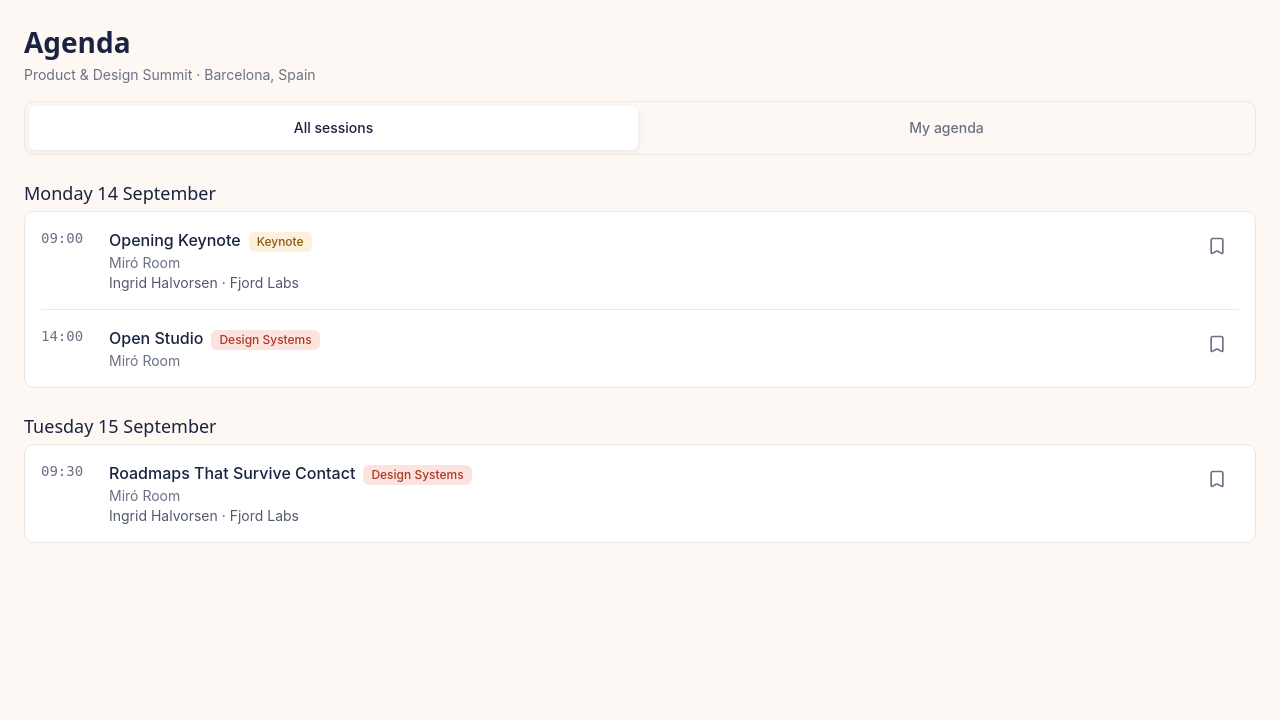
Test: clearing a note › shows a stored note when the panel opens (US3 scenario 4)
The width and height of the screenshot is (1280, 720).
What coordinates should you click on to do the following:
click the link "Opening Keynote"
I would click on:
 (175, 240)
Its box is [109, 230, 241, 250].
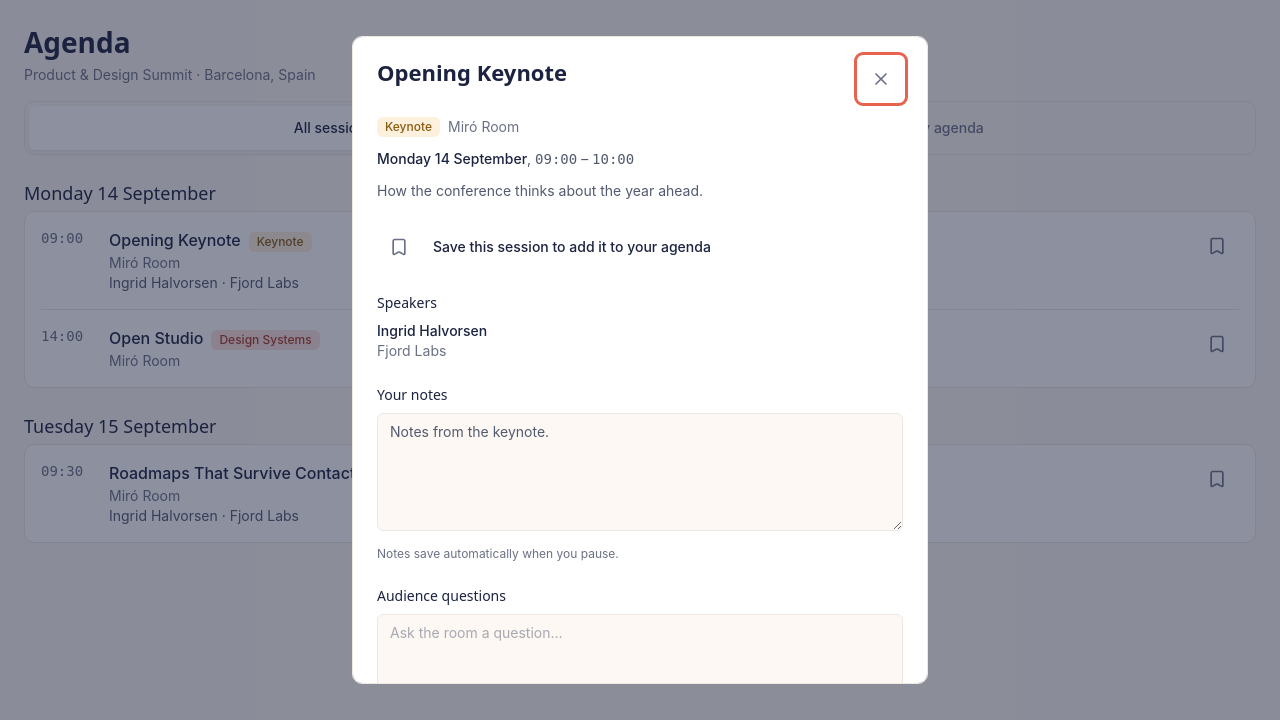
Now the heading "Opening Keynote" is shown, box [377, 57, 567, 88]
Now the text box named "private notes" holds "Notes from the keynote.", box [377, 413, 903, 531]
